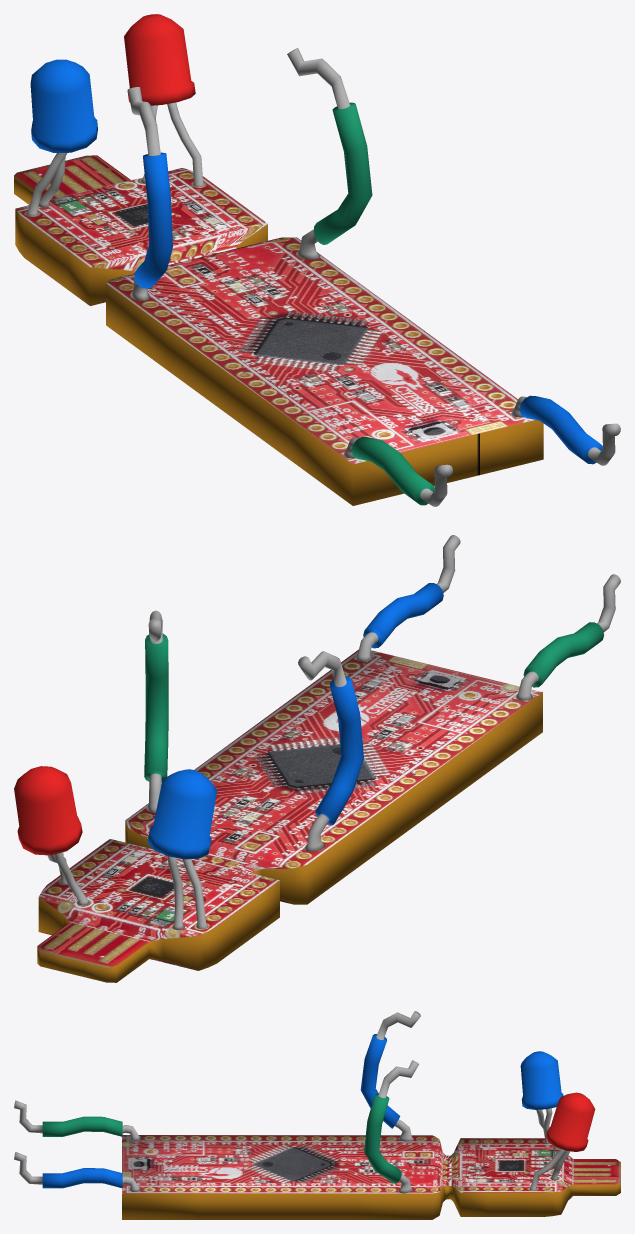
File: circuit_enemy_type1_bipedal.fbx
3 views of the same model, one above another, from view 1: azimuth 30°, elevation 25°; view 2: azimuth 150°, elevation 25°; view 3: azimuth 270°, elevation 25° (orthographic). The views are drawn at different scales.
Visible parts, largest first — view 1: CircuitEnemyType1; view 2: CircuitEnemyType1; view 3: CircuitEnemyType1.
Boxes of the visible parts, left/top/right/bottom form: CircuitEnemyType1: left=14, top=14, right=620, bottom=506; CircuitEnemyType1: left=14, top=535, right=620, bottom=982; CircuitEnemyType1: left=14, top=1011, right=620, bottom=1219.
Size of the model in its own units: 0.8403 by 0.8846 by 3.15.
